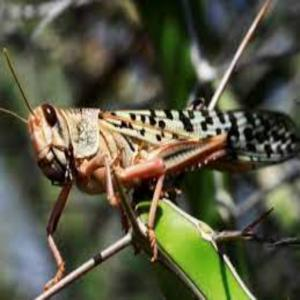locust: (6, 70, 300, 213)
